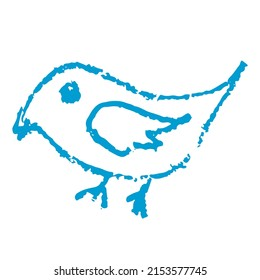bird: (12, 56, 248, 220)
